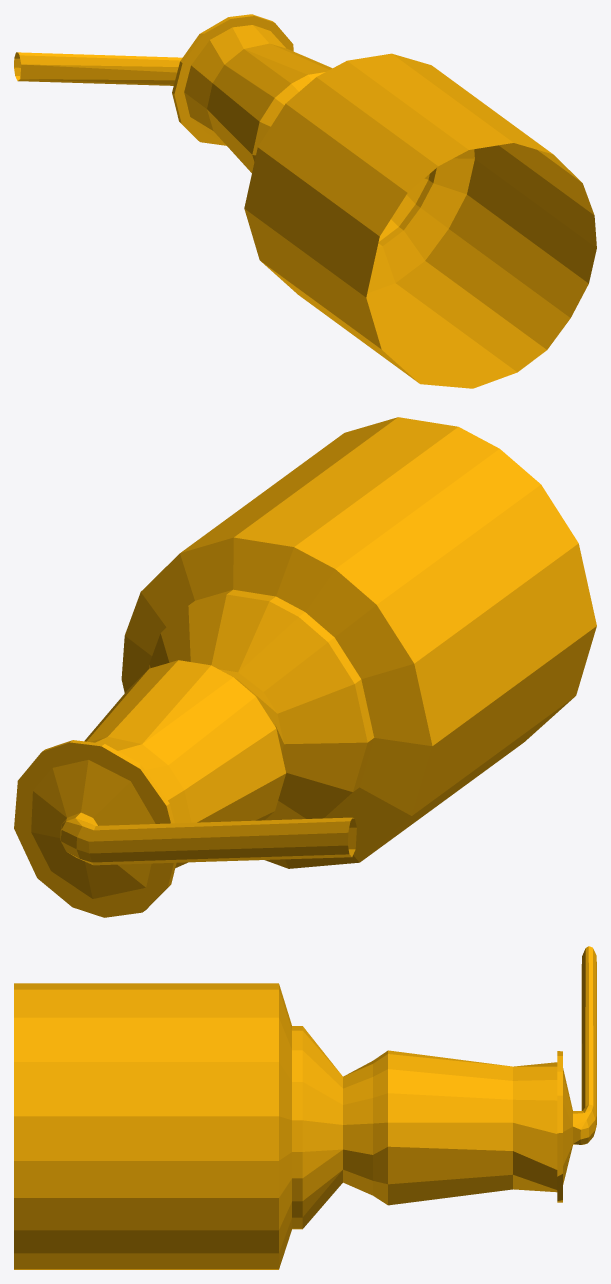
Rendered from thruster.fbx.
The picture shows the model from 3 angles, top to bottom: view 1: azimuth 30°, elevation 25°; view 2: azimuth 150°, elevation 25°; view 3: azimuth 270°, elevation 25°; orthographic projection. The views are drawn at different scales.
Parts seen in each view (by area): view 1: SHIP.006; view 2: SHIP.006; view 3: SHIP.006.
Boxes of the visible parts, box(x1,y1,x2,y2) form: SHIP.006: box(14, 14, 596, 388); SHIP.006: box(14, 417, 596, 917); SHIP.006: box(14, 946, 596, 1269).
Size of the model in its own units: 1026 by 747 by 1517.
